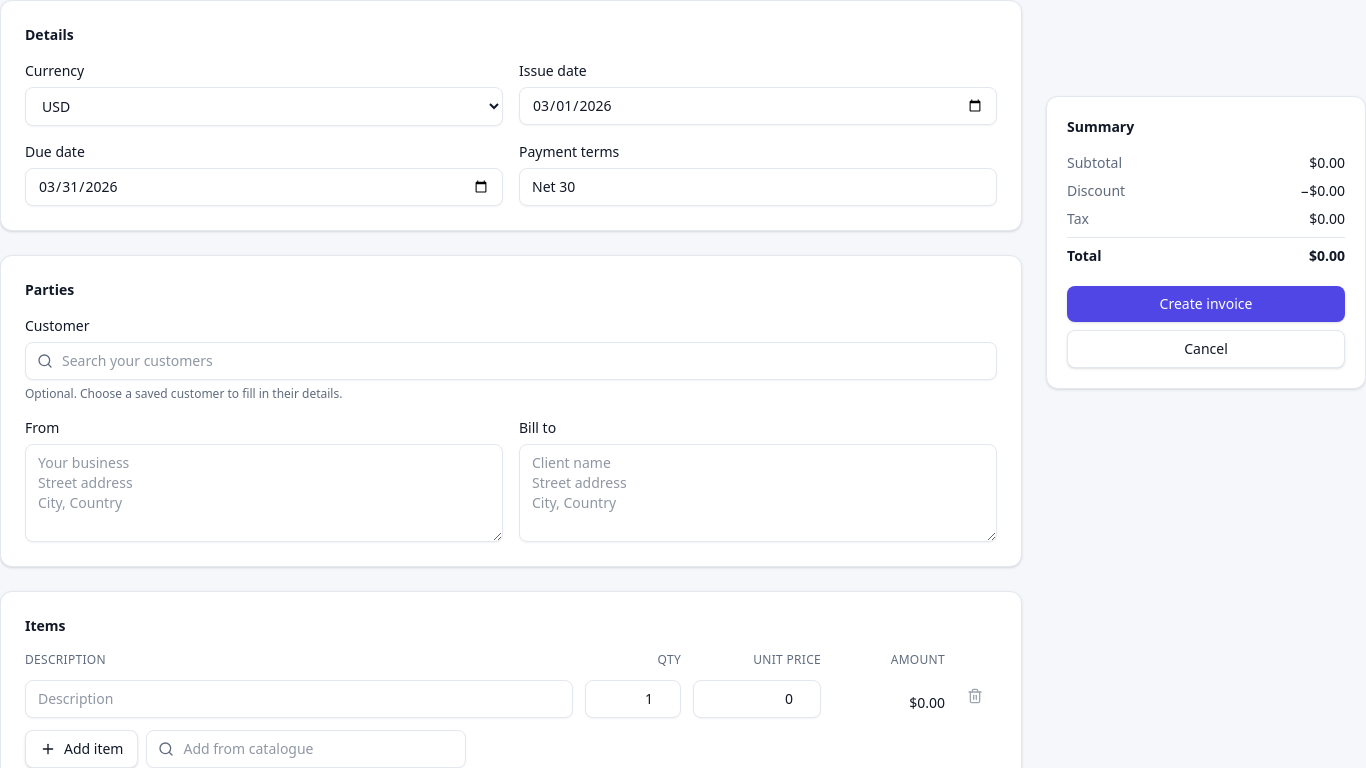
Test: InvoiceForm › updates line amounts and totals as the user types
Replace the text in the number field named "Item 1 quantity" with "2" at (633, 699), box [585, 680, 681, 718]
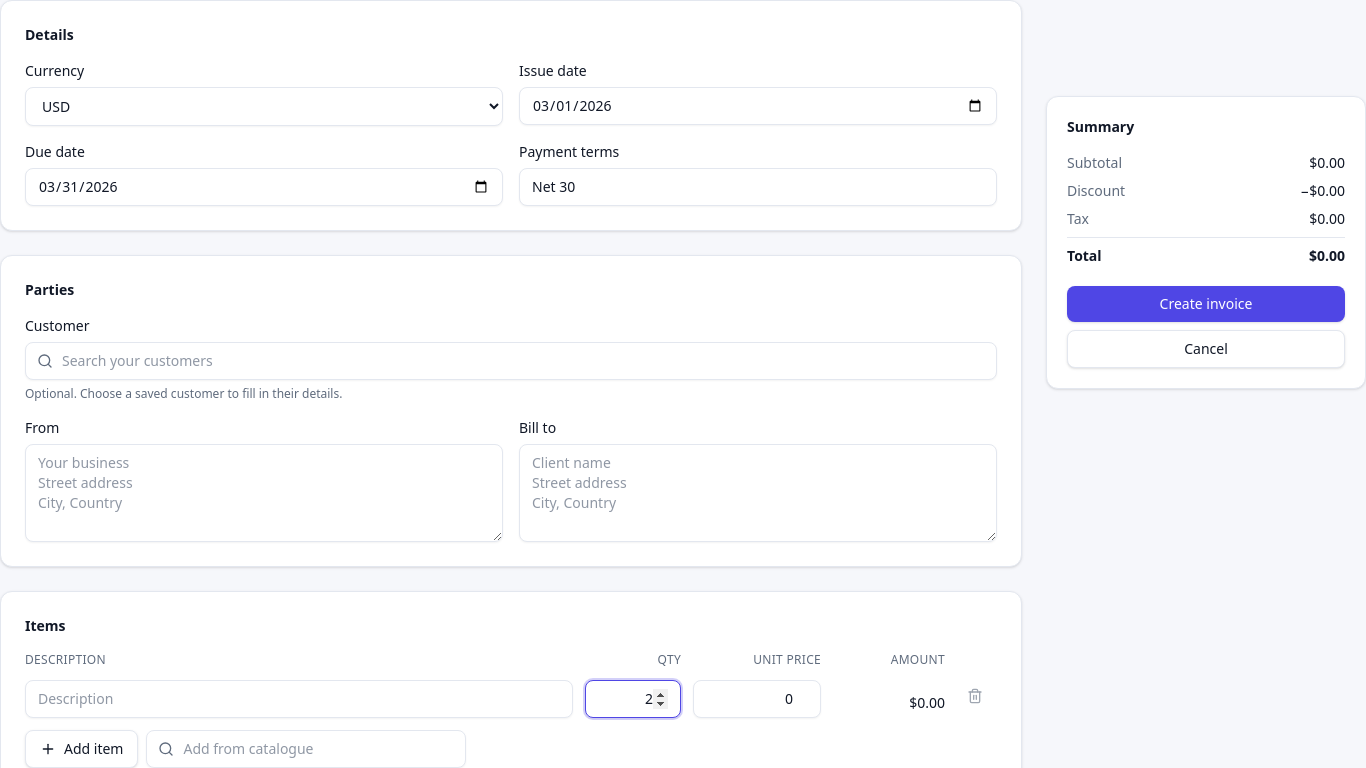
Replace the text in the number field named "Item 1 unit price" with "150.50" at (757, 699), box [693, 680, 821, 718]
(page scrolled)
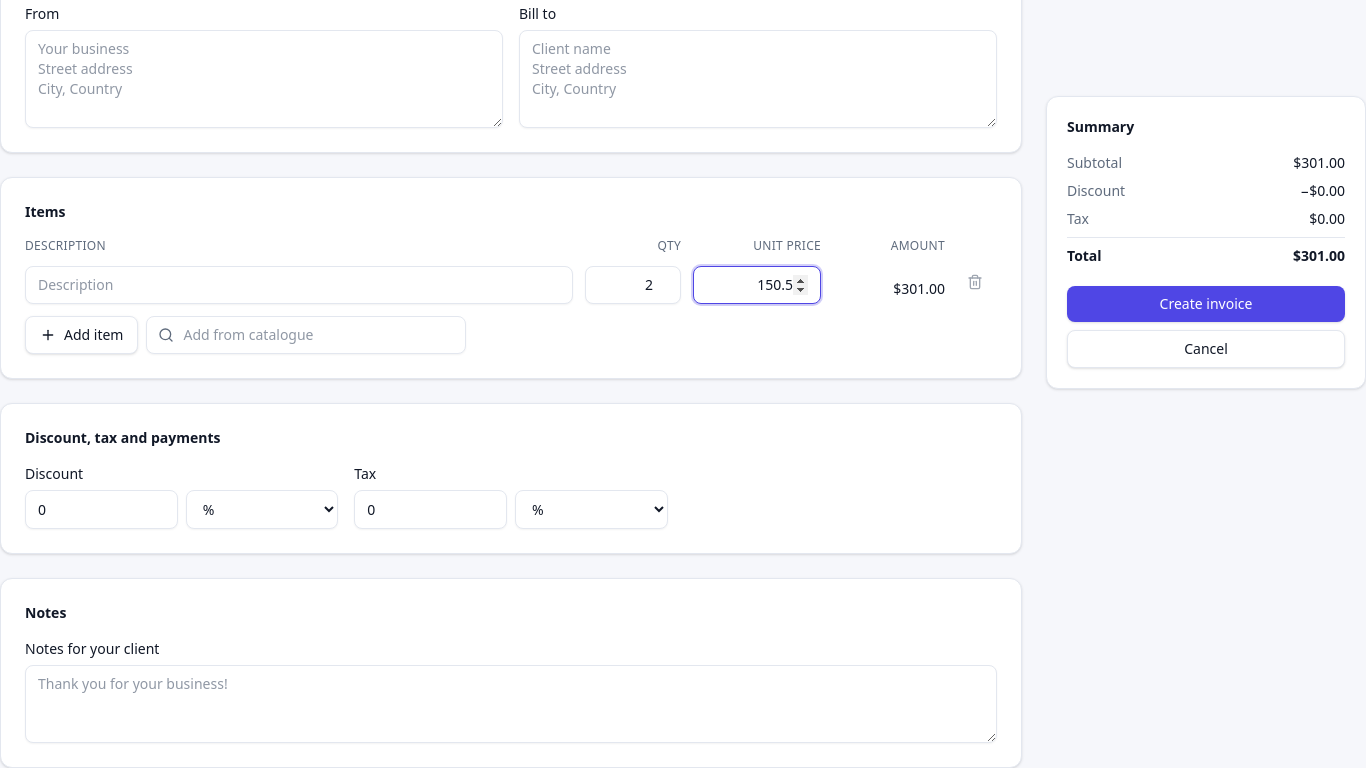
Replace the text in the number field labelled "Tax" with "20" at (431, 510), box [354, 490, 507, 529]
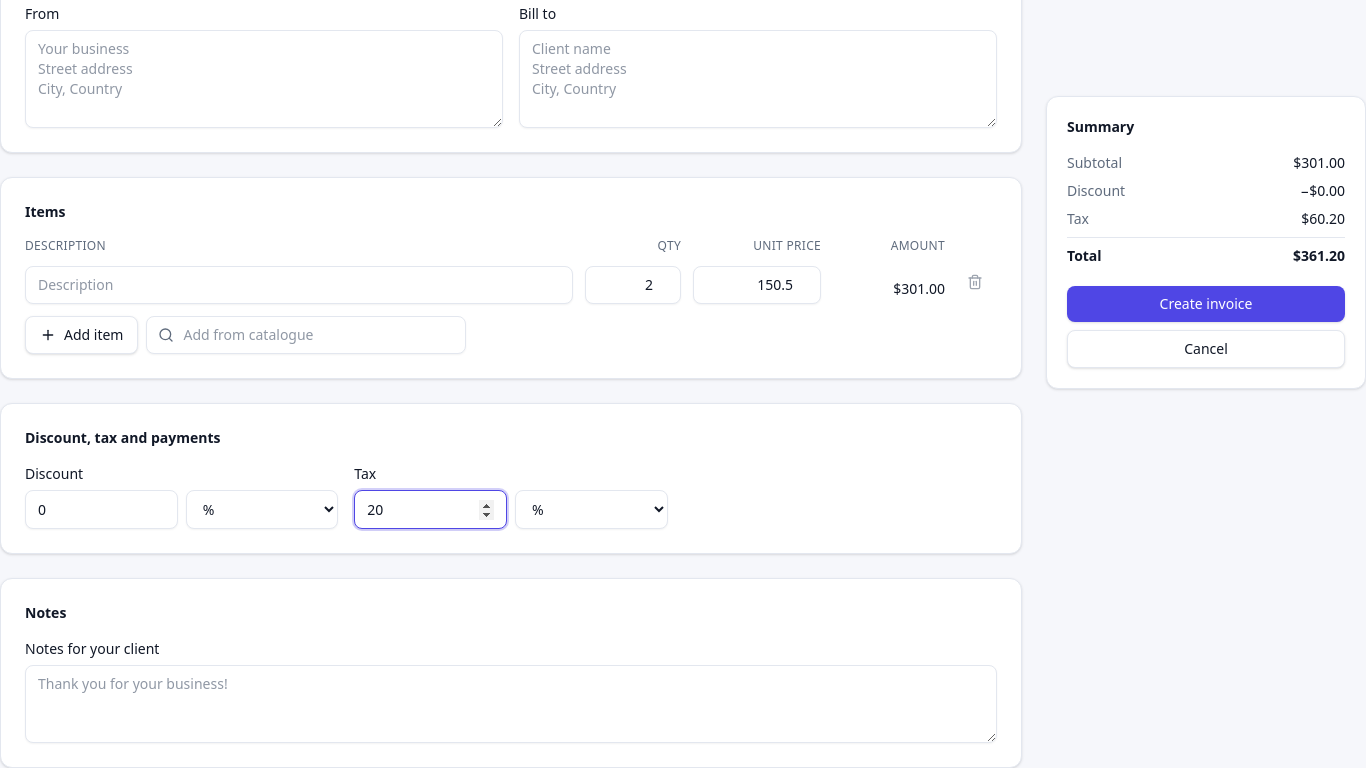
Expected: the text "$361.20" is shown once, [1293, 246, 1345, 266]
Now the text named "Item 1 amount" reads "$301.00", box [893, 279, 945, 298]
Now the text "$60.20" is shown, box [1301, 209, 1345, 229]
